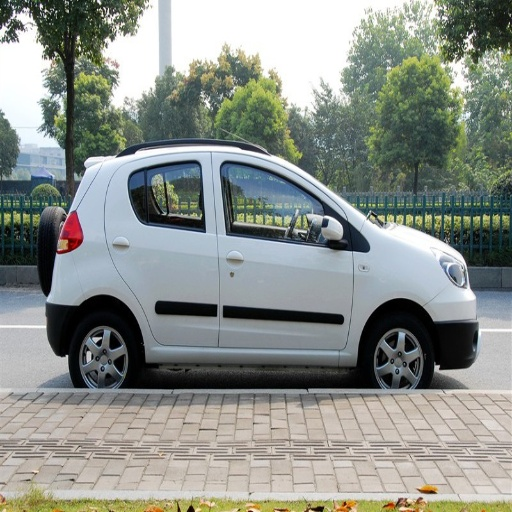back_right_door: (110, 148, 218, 346)
front_right_door: (213, 149, 354, 350)
